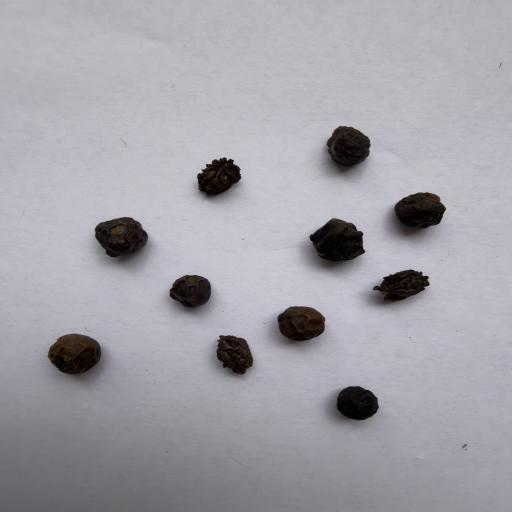Black_pepper: (82, 210, 154, 261), (305, 216, 368, 264), (379, 190, 450, 232), (161, 271, 228, 314), (266, 302, 332, 344), (47, 330, 103, 377), (325, 121, 375, 172), (330, 381, 381, 422)
papaya_seed: (185, 152, 247, 199), (209, 325, 256, 376), (372, 263, 429, 304)
